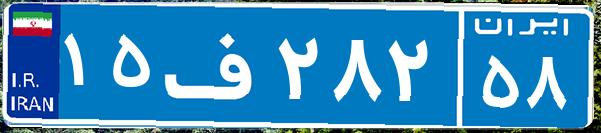1: (57, 26, 110, 107)
2: (385, 28, 445, 110), (273, 28, 330, 110)
5: (475, 38, 525, 113), (110, 28, 158, 105)
8: (330, 28, 385, 110), (525, 38, 570, 115)
ف: (158, 15, 273, 115)
